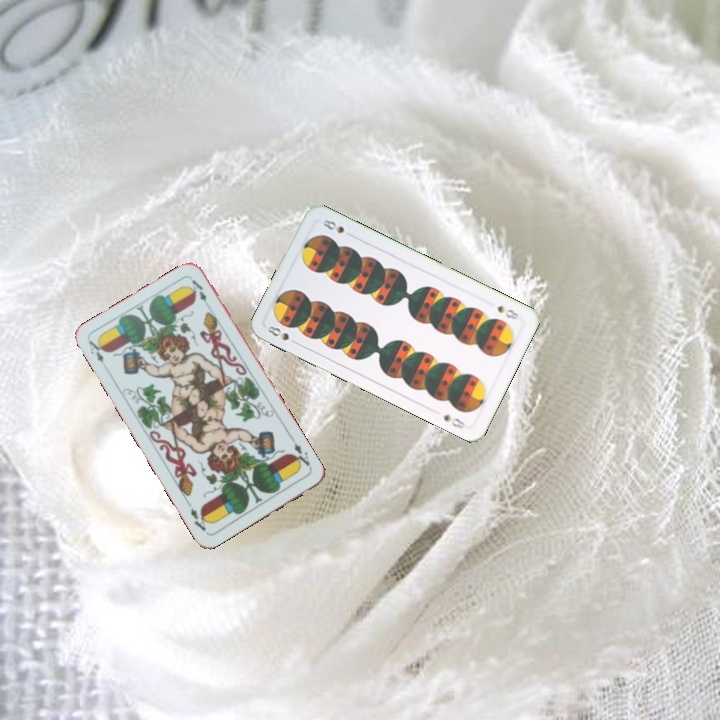EA: (288, 434, 314, 472), (85, 336, 108, 365)
S8: (264, 322, 301, 347), (493, 301, 522, 322)
